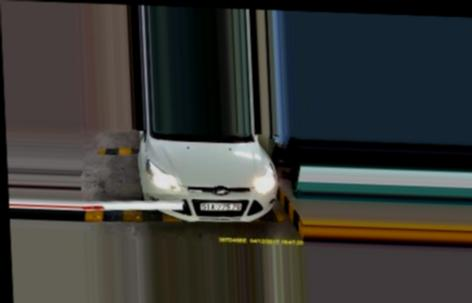License_Plate: (200, 199, 243, 213)
